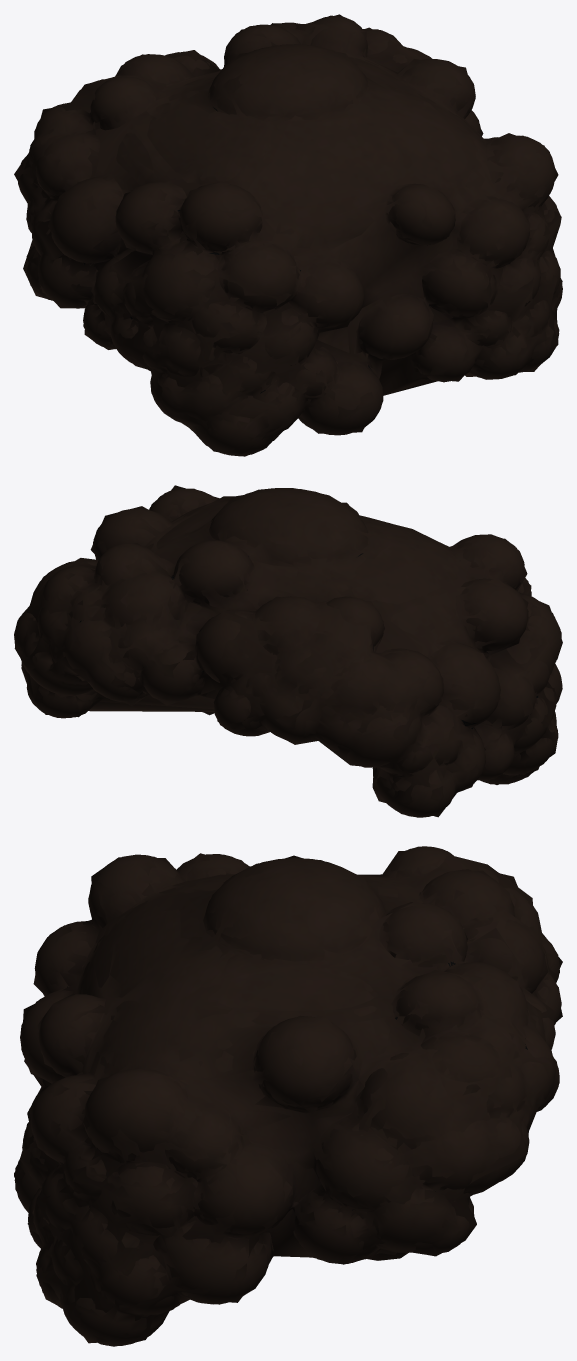
The model's file is coils.glb.
The picture shows the model from 3 angles, top to bottom: view 1: azimuth 30°, elevation 25°; view 2: azimuth 150°, elevation 25°; view 3: azimuth 270°, elevation 25°; orthographic projection. The views are drawn at different scales.
Visible parts, largest first — view 1: near, mid, far; view 2: near, mid, far; view 3: near, mid, far.
Boxes of the visible parts, x1,y1,x2,y2 form: near: (18, 16, 562, 456); mid: (18, 15, 562, 456); far: (14, 14, 561, 453); near: (14, 488, 562, 817); mid: (14, 488, 562, 817); far: (14, 485, 562, 817); near: (14, 846, 561, 1345); mid: (15, 846, 561, 1346); far: (14, 851, 562, 1343).
Size of the model in its own units: 1.32 by 0.8892 by 1.15.
1 material, 1 textured.
